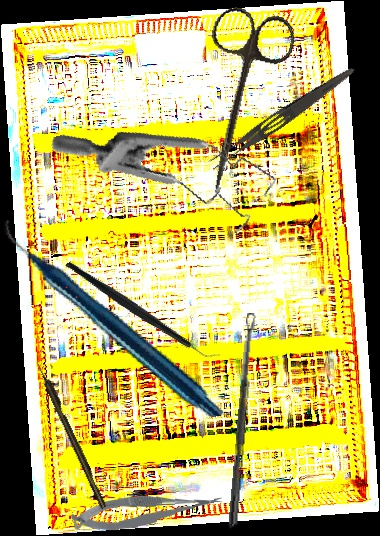Chopper: (64, 221, 222, 399)
Dressing Forceps: (204, 59, 359, 175)
Handpiece: (2, 182, 226, 454)
Hook Surgical: (34, 359, 108, 510)
Iris Scissors: (179, 3, 299, 203)
Micro Scissor: (70, 491, 224, 533)
Speculum: (49, 81, 289, 275)
Surgical Spoon: (228, 312, 257, 530)
